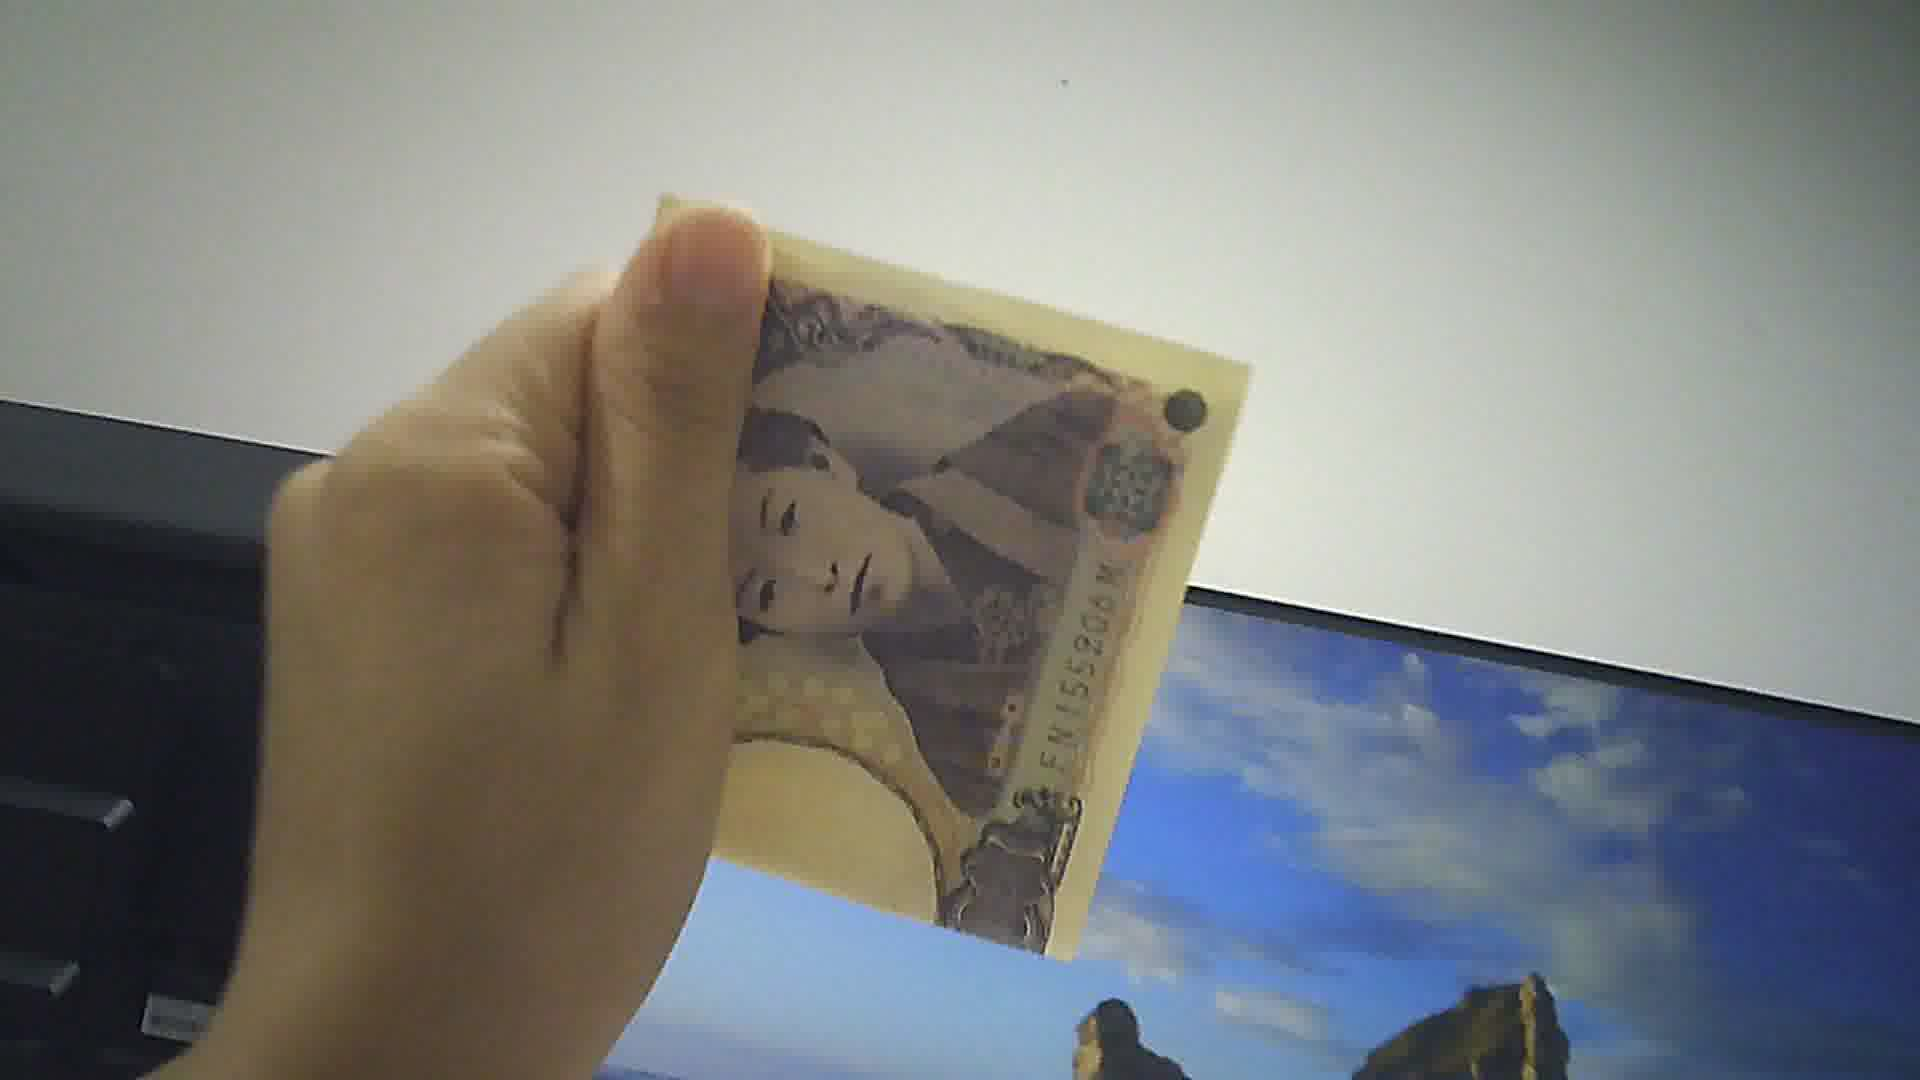5,000 Yen: (620, 196, 1284, 981)
